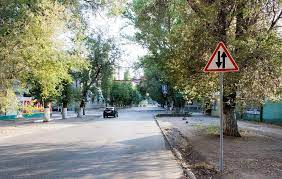1.19.1: (201, 42, 240, 69)
